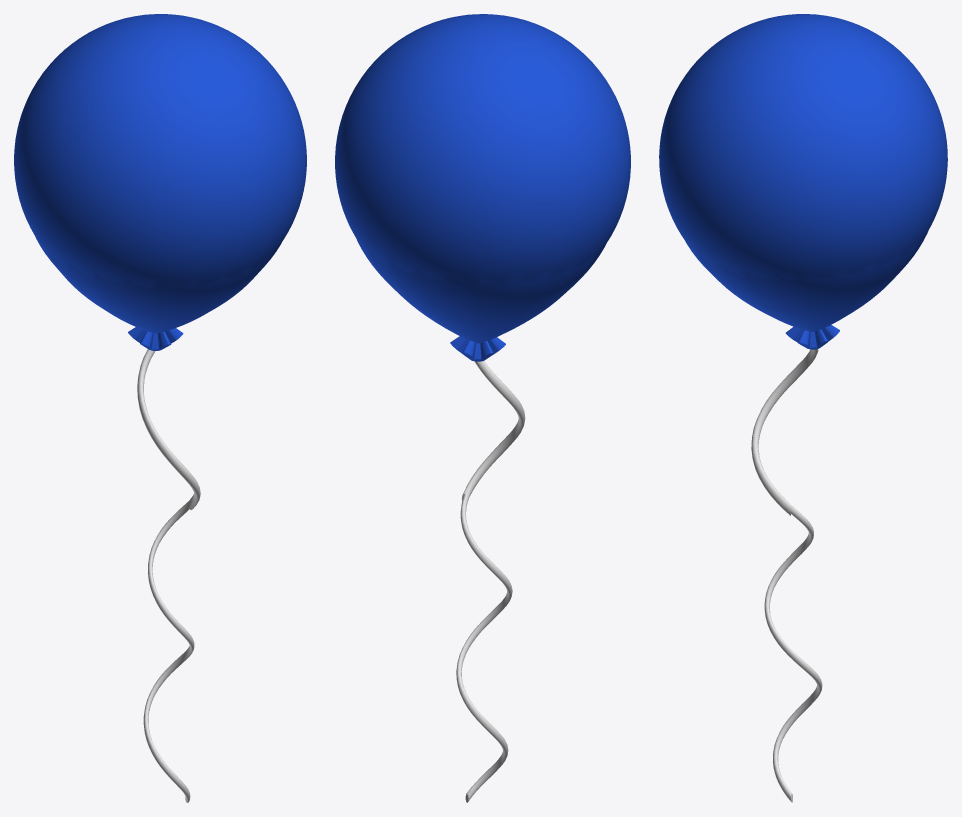
Rendered from blue_balloon.glb.
3 renders of one model, left to right at view 1: azimuth 30°, elevation 25°; view 2: azimuth 150°, elevation 25°; view 3: azimuth 270°, elevation 25°, orthographic. The views are drawn at different scales.
Parts seen in each view (by area): view 1: group_0_15277357, group_0_6383466; view 2: group_0_15277357, group_0_6383466; view 3: group_0_15277357, group_0_6383466.
Part boxes in pixels (<box>): group_0_15277357: <box>14,14,306,350</box>; group_0_6383466: <box>137,349,200,802</box>; group_0_15277357: <box>335,14,630,361</box>; group_0_6383466: <box>456,361,525,802</box>; group_0_15277357: <box>659,14,947,349</box>; group_0_6383466: <box>751,349,822,802</box>.
Bounding box in the file's own units: 0.6252 × 1.83 × 0.625.
